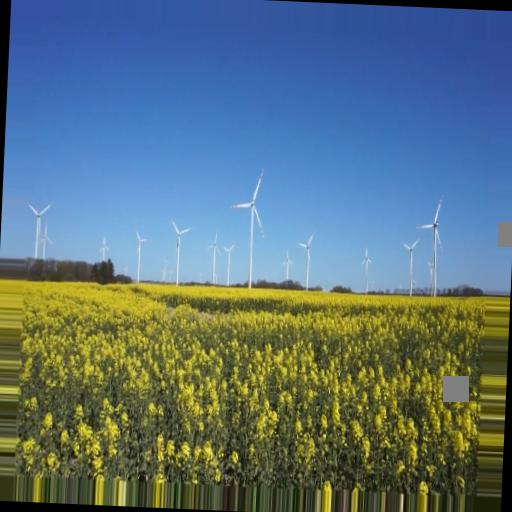wind turbine: (226, 167, 268, 284), (418, 193, 448, 289), (22, 198, 53, 258), (165, 217, 193, 282), (396, 236, 423, 291), (298, 232, 320, 285), (205, 230, 224, 282)
